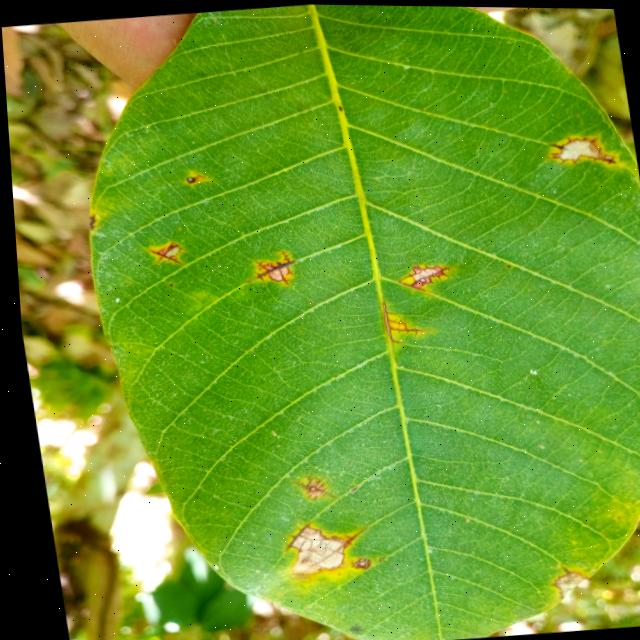Colletotrichum: (503, 263, 507, 266)
Corynespora: (543, 130, 616, 169), (236, 247, 295, 289), (377, 297, 423, 344), (391, 258, 451, 292), (144, 240, 185, 268), (272, 521, 306, 552), (285, 475, 327, 500), (325, 531, 355, 551), (182, 171, 204, 184)
Leaf-Blight: (278, 525, 340, 575), (556, 136, 597, 159)
